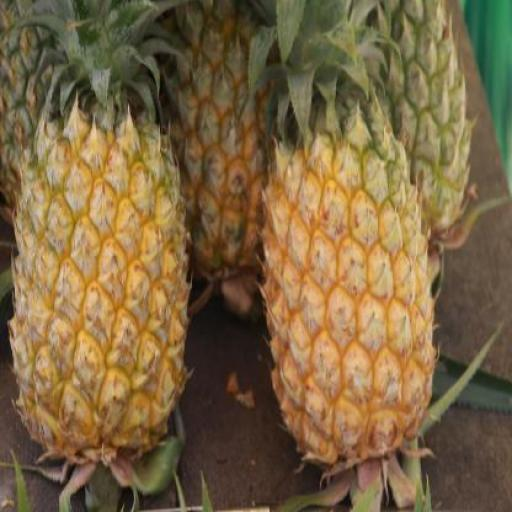Pineapple - v8 v1: (263, 123, 436, 449), (19, 114, 187, 444)
